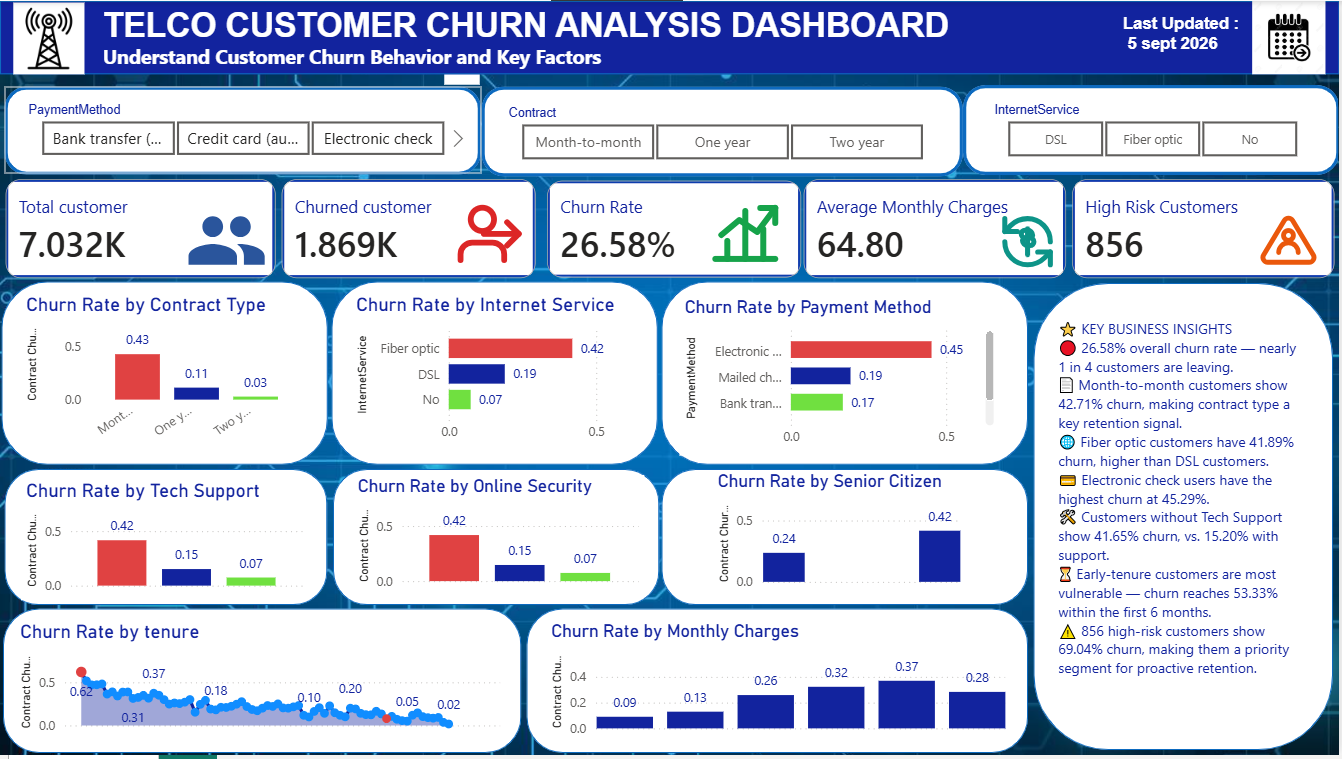

What the dashboard file says about the page in this screenshot:
{"tool":"powerbi","page":{"name":"Dashboard","canvas":[1280,720],"ordinal":0},"visuals":[{"type":"shape","box":[503,580,479,138],"z":0},{"type":"shape","box":[3.3,580,495,138],"z":1000},{"type":"shape","box":[631.7,446.7,350,130],"z":2000},{"type":"shape","box":[318,446.7,311.7,130],"z":3000},{"type":"shape","box":[5,446.7,308.3,130],"z":4000},{"type":"shape","box":[632,268,350,175],"z":5000},{"type":"shape","box":[316.7,268.3,311.7,175],"z":6000},{"type":"shape","box":[1.7,268.3,311.7,175],"z":7000},{"type":"shape","box":[987,270,286,446],"z":8000},{"type":"shape","box":[919.4,79.5,359.5,85.9],"z":9000},{"type":"shape","box":[459.7,81.1,459.7,85.9],"z":10000},{"type":"shape","box":[4.8,81.1,454.9,84.3],"z":11000},{"type":"shape","box":[0,0,1280,70],"z":12000},{"type":"textbox","box":[93.3,0,1041.7,55],"z":13000},{"type":"cardVisual","fields":{"Data":["CountNonNull(Telco-Customer-Churn-Cleaned.customerID)"]},"box":[0,165,268.3,105],"z":14000},{"type":"cardVisual","fields":{"Data":["CountNonNull(Telco-Customer-Churn-Cleaned.customerID)"]},"box":[263.3,165,253.3,105],"z":15000},{"type":"cardVisual","fields":{"Data":["Telco-Customer-Churn-Cleaned.Churn Rate %"]},"box":[516.7,166.7,253.3,103.3],"z":16000},{"type":"cardVisual","fields":{"Data":["Avg(Telco-Customer-Churn-Cleaned.MonthlyCharges)"]},"box":[761.7,165,261.7,105],"z":17000},{"type":"clusteredColumnChart","title":"Churn Rate by Contract Type","fields":{"Category":["Telco-Customer-Churn-Cleaned.Contract"],"Y":["Telco-Customer-Churn-Cleaned.Contract Churn Rate %"]},"box":[20,280,275,150],"z":18000},{"type":"clusteredBarChart","title":"Churn Rate by Internet Service","fields":{"Category":["Telco-Customer-Churn-Cleaned.InternetService"],"Y":["Telco-Customer-Churn-Cleaned.Contract Churn Rate %"]},"box":[335,280,275,150],"z":19000},{"type":"clusteredBarChart","title":"Churn Rate by Payment Method","fields":{"Category":["Telco-Customer-Churn-Cleaned.PaymentMethod"],"Y":["Telco-Customer-Churn-Cleaned.Contract Churn Rate %"]},"box":[648.3,281.7,305,151.7],"z":20000},{"type":"lineChart","title":"Churn Rate by tenure","fields":{"Category":["Telco-Customer-Churn-Cleaned.tenure"],"Y":["Telco-Customer-Churn-Cleaned.Contract Churn Rate %"]},"box":[15,591.7,468.3,116.7],"z":21000},{"type":"clusteredColumnChart","title":" Churn Rate by Monthly Charges","fields":{"Category":["Telco-Customer-Churn-Cleaned.MonthlyCharges Group"],"Y":["Telco-Customer-Churn-Cleaned.Contract Churn Rate %"]},"box":[521.7,591.7,443.3,116.7],"z":22000},{"type":"clusteredColumnChart","title":" Churn Rate by Tech Support","fields":{"Category":["Telco-Customer-Churn-Cleaned.TechSupport"],"Y":["Telco-Customer-Churn-Cleaned.Contract Churn Rate %"]},"box":[20,456.7,275,115],"z":23000},{"type":"clusteredColumnChart","title":" Churn Rate by Online Security","fields":{"Category":["Telco-Customer-Churn-Cleaned.OnlineSecurity"],"Y":["Telco-Customer-Churn-Cleaned.Contract Churn Rate %"]},"box":[336.7,453.3,278.3,115],"z":24000},{"type":"clusteredColumnChart","title":" Churn Rate by Senior Citizen","fields":{"Category":["Telco-Customer-Churn-Cleaned.SeniorCitizen"],"Y":["Telco-Customer-Churn-Cleaned.Contract Churn Rate %"]},"box":[680,448.3,241.7,120],"z":25000},{"type":"cardVisual","fields":{"Data":["Telco-Customer-Churn-Cleaned.High Risk Customers"]},"box":[1018.3,165,261.7,105],"z":26000},{"type":"slicer","fields":{"Values":["Telco-Customer-Churn-Cleaned.Contract"]},"box":[472.4,93.8,432.6,63.6],"z":27000},{"type":"slicer","fields":{"Values":["Telco-Customer-Churn-Cleaned.InternetService"]},"box":[936.9,92.3,326.1,63.6],"z":28000},{"type":"slicer","fields":{"Values":["Telco-Customer-Churn-Cleaned.PaymentMethod"]},"box":[14.3,92.3,434.2,62],"z":29000},{"type":"image","box":[0,1.7,93.3,68.3],"z":30000},{"type":"textbox","box":[93.3,35,530,45],"z":31000},{"type":"image","box":[1181.7,0,98.3,70],"z":32000},{"type":"textbox","box":[1066.7,6.7,150,53.3],"z":33000},{"type":"image","box":[165.4,189.3,103.4,79.5],"z":34000},{"type":"image","box":[419.9,189.3,101.8,66.8],"z":35000},{"type":"image","box":[1181.8,200.4,97,55.7],"z":36000},{"type":"image","box":[655.3,189.3,111.3,68.4],"z":37000},{"type":"image","box":[920,200,123.3,58.3],"z":38000},{"type":"textbox","box":[1005,298.3,245,385],"z":39000}]}

Visuals, with their boxes in screenshot pixels (x1, y1, x2, y2), scaled from the page's 1280x720 canvas onto the 1342x759 screenshot:
shape: [527,611,1030,757]
shape: [3,611,522,757]
shape: [662,471,1029,608]
shape: [333,471,660,608]
shape: [5,471,328,608]
shape: [663,283,1030,467]
shape: [332,283,659,467]
shape: [2,283,329,467]
shape: [1035,285,1335,755]
shape: [964,84,1341,174]
shape: [482,85,964,176]
shape: [5,85,482,174]
shape: [0,0,1341,74]
textbox: [98,0,1190,58]
cardVisual - CountNonNull(Telco-Customer-Churn-Cleaned.customerID): [0,174,281,285]
cardVisual - CountNonNull(Telco-Customer-Churn-Cleaned.customerID): [276,174,542,285]
cardVisual - Telco-Customer-Churn-Cleaned.Churn Rate %: [542,176,807,285]
cardVisual - Avg(Telco-Customer-Churn-Cleaned.MonthlyCharges): [799,174,1073,285]
"Churn Rate by Contract Type" clusteredColumnChart: [21,295,309,453]
"Churn Rate by Internet Service" clusteredBarChart: [351,295,640,453]
"Churn Rate by Payment Method" clusteredBarChart: [680,297,999,457]
"Churn Rate by tenure" lineChart: [16,624,507,747]
" Churn Rate by Monthly Charges" clusteredColumnChart: [547,624,1012,747]
" Churn Rate by Tech Support" clusteredColumnChart: [21,481,309,603]
" Churn Rate by Online Security" clusteredColumnChart: [353,478,645,599]
" Churn Rate by Senior Citizen" clusteredColumnChart: [713,473,966,599]
cardVisual - Telco-Customer-Churn-Cleaned.High Risk Customers: [1068,174,1341,285]
slicer - Telco-Customer-Churn-Cleaned.Contract: [495,99,949,166]
slicer - Telco-Customer-Churn-Cleaned.InternetService: [982,97,1324,164]
slicer - Telco-Customer-Churn-Cleaned.PaymentMethod: [15,97,470,163]
image: [0,2,98,74]
textbox: [98,37,653,84]
image: [1239,0,1341,74]
textbox: [1118,7,1276,63]
image: [173,200,282,283]
image: [440,200,547,270]
image: [1239,211,1341,270]
image: [687,200,804,272]
image: [965,211,1094,272]
textbox: [1054,314,1311,720]
